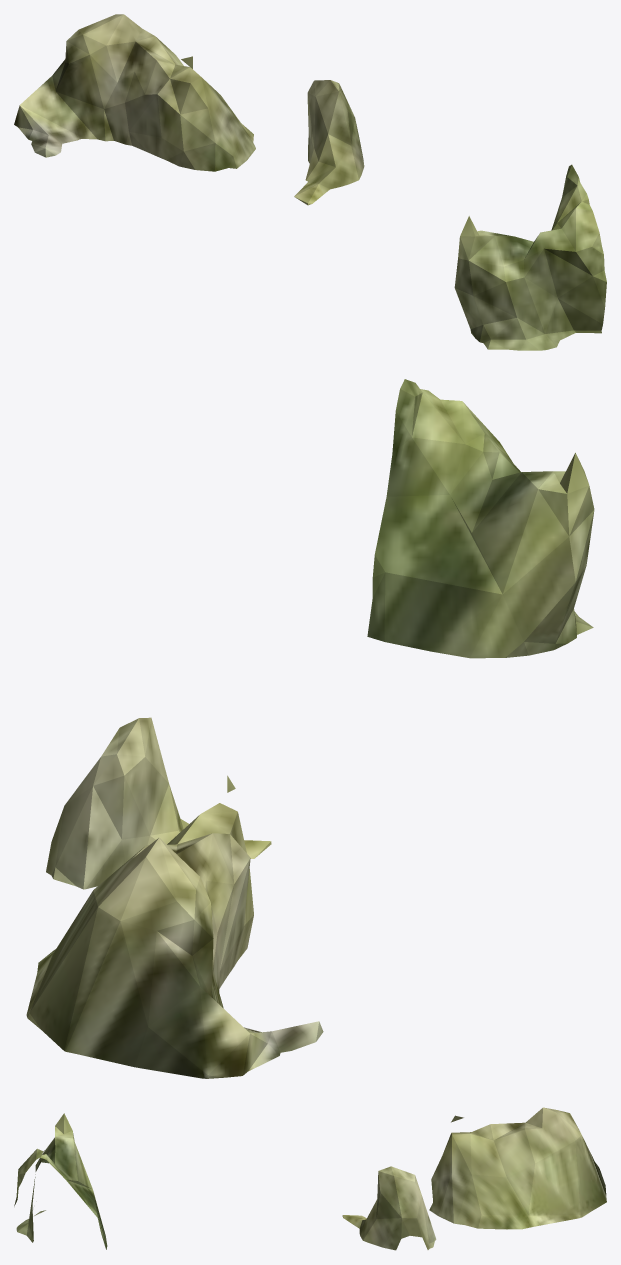
3 views of the same model, one above another, from view 1: azimuth 30°, elevation 25°; view 2: azimuth 150°, elevation 25°; view 3: azimuth 270°, elevation 25° (orthographic). The views are drawn at different scales.
Bounding box in the file's own units: 1.86 × 1.09 × 5.08.
Materials: 1 (1 with a texture image).
